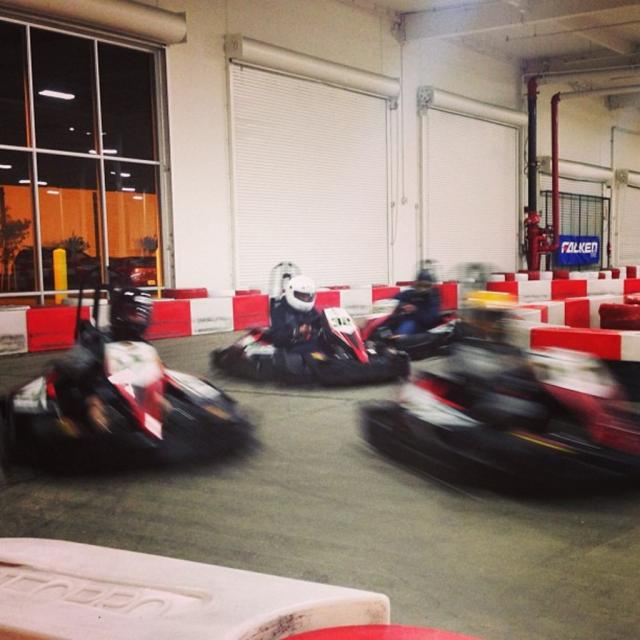other: (359, 260, 639, 498), (0, 264, 256, 466), (211, 256, 408, 384), (361, 252, 474, 360)
